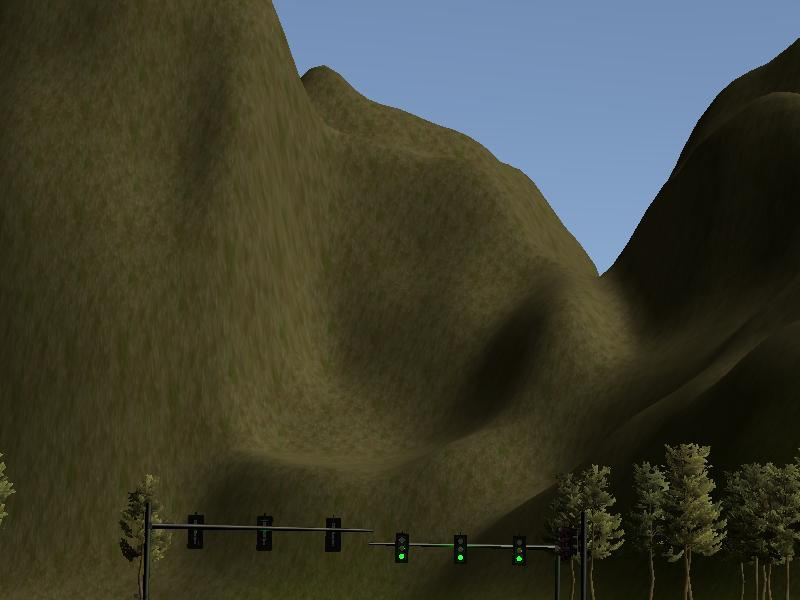Green: (510, 531, 529, 567), (393, 530, 410, 566), (452, 532, 469, 567)
